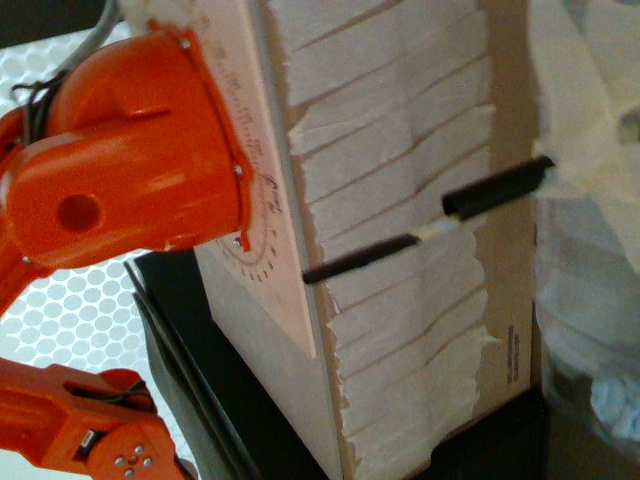test_strip: (299, 215, 457, 286)
